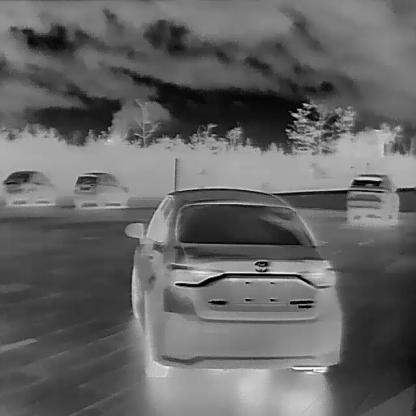car: (122, 187, 341, 372), (346, 173, 398, 225), (71, 170, 130, 208), (1, 169, 55, 206)
